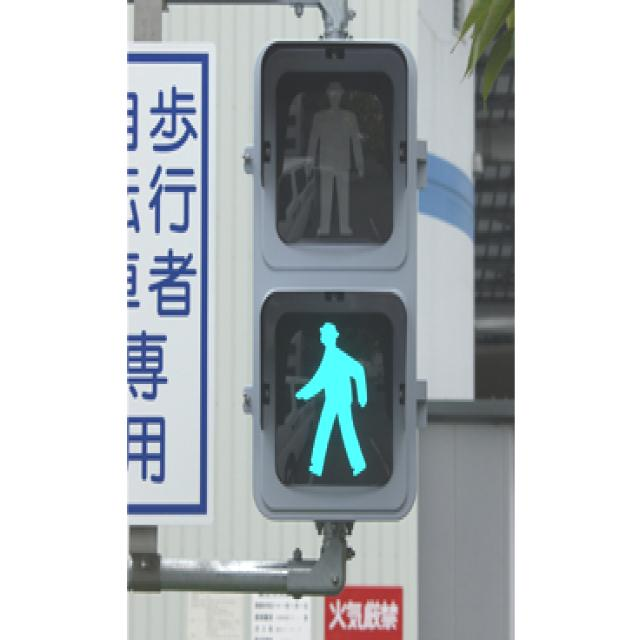trafficlight: (250, 36, 414, 517)
